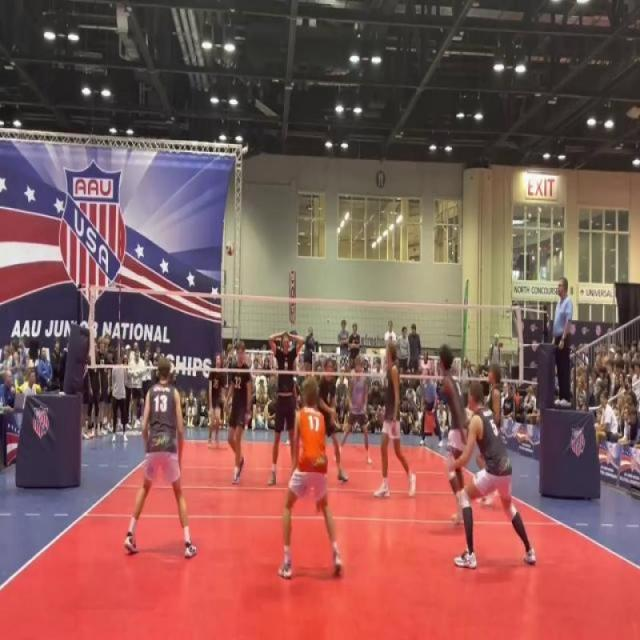volleyball: (225, 241, 235, 256)
